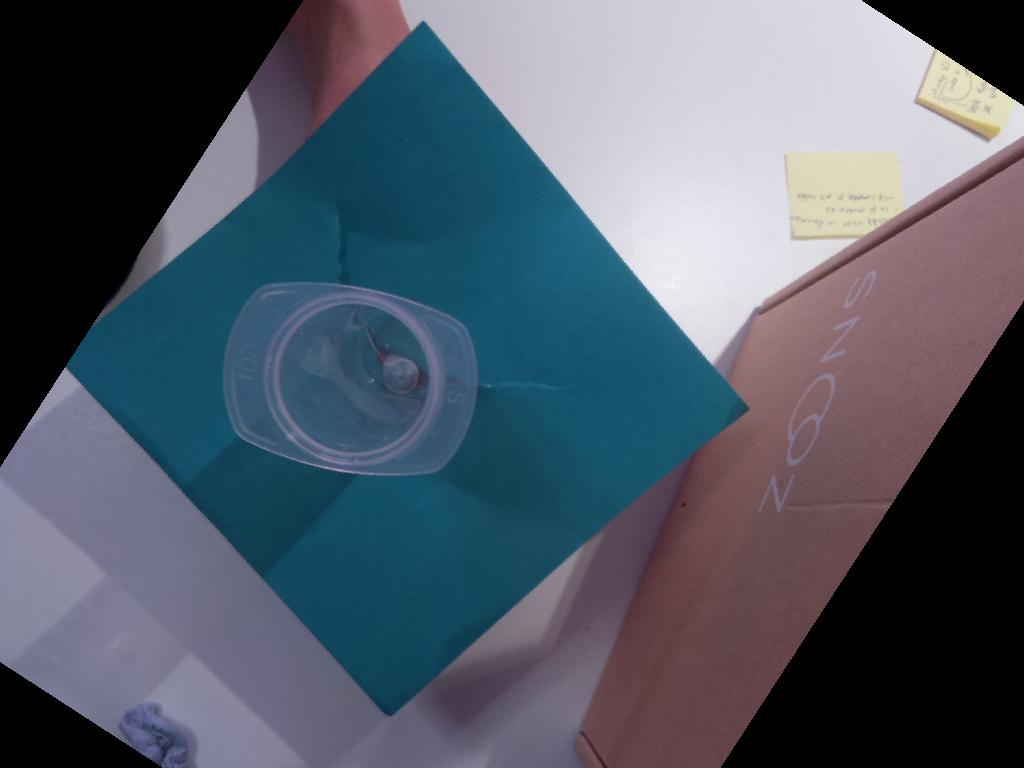clean: (223, 279, 479, 477)
